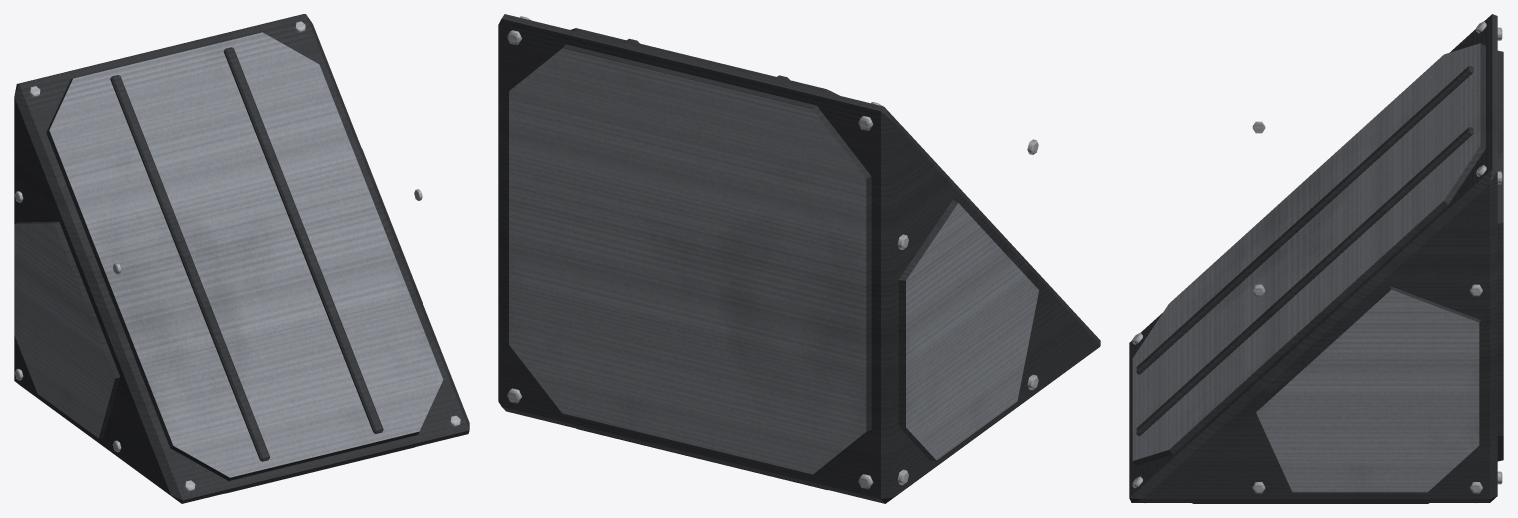
The model's file is R4B_Wedge.glb.
3 views of the same model, side by side, from view 1: azimuth 30°, elevation 25°; view 2: azimuth 150°, elevation 25°; view 3: azimuth 270°, elevation 25° (orthographic). The views are drawn at different scales.
Visible parts, largest first — view 1: R4B_Wedge; view 2: R4B_Wedge; view 3: R4B_Wedge.
Part boxes in pixels (x1,y1,x2,y2): R4B_Wedge: [14, 14, 469, 503]; R4B_Wedge: [498, 14, 1100, 503]; R4B_Wedge: [1129, 14, 1503, 503].
Size of the model in its own units: 0.52 by 0.4936 by 0.4936.
3 materials, 3 textured.
